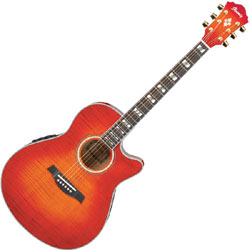guitar: (1, 2, 247, 250)
